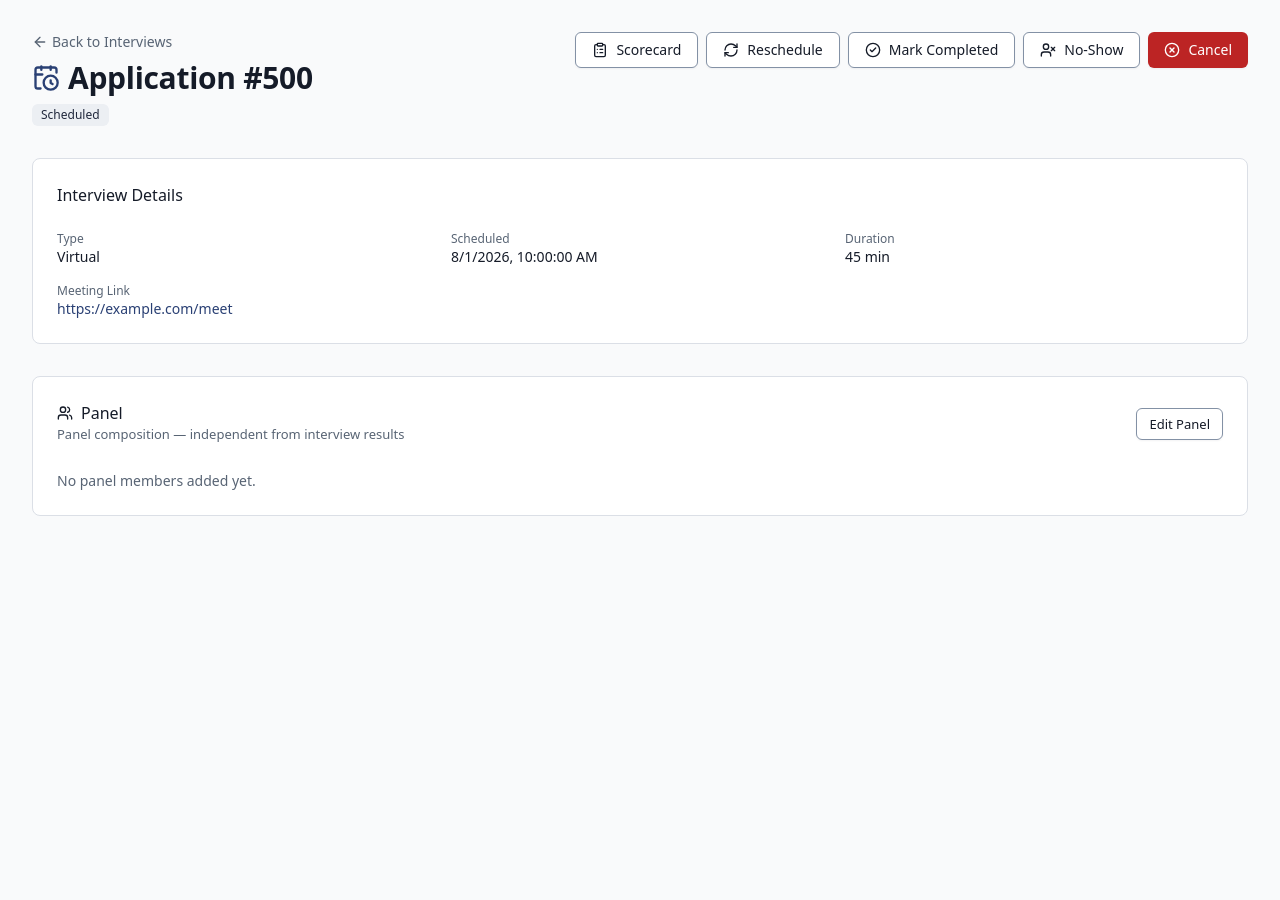
Scenario: Interview detail page › cancel confirmation › asks before cancelling, and Keep Interview cancels nothing
Click the button with test id "button-cancel-interview" at (1198, 50), box [1148,32,1248,68]
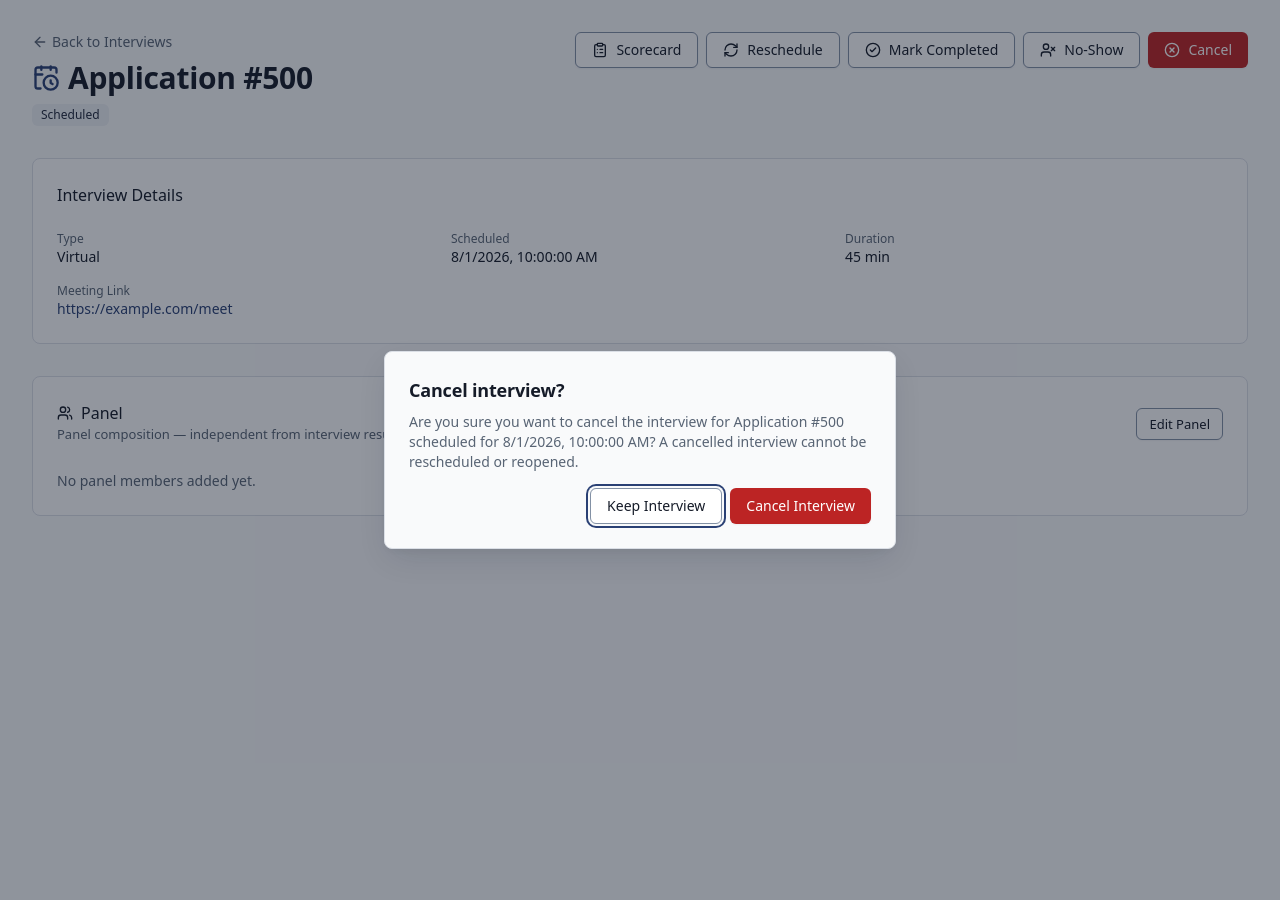
Result: the dialog with test id "dialog-cancel-interview" shows "Cancel interview?" at [409,378,564,402]
Result: the dialog with test id "dialog-cancel-interview" shows "cancel the interview for Application #500" at [384,351,896,549]
Click the button with test id "dialog-cancel-interview-cancel" at (656, 506), box [590,488,722,524]
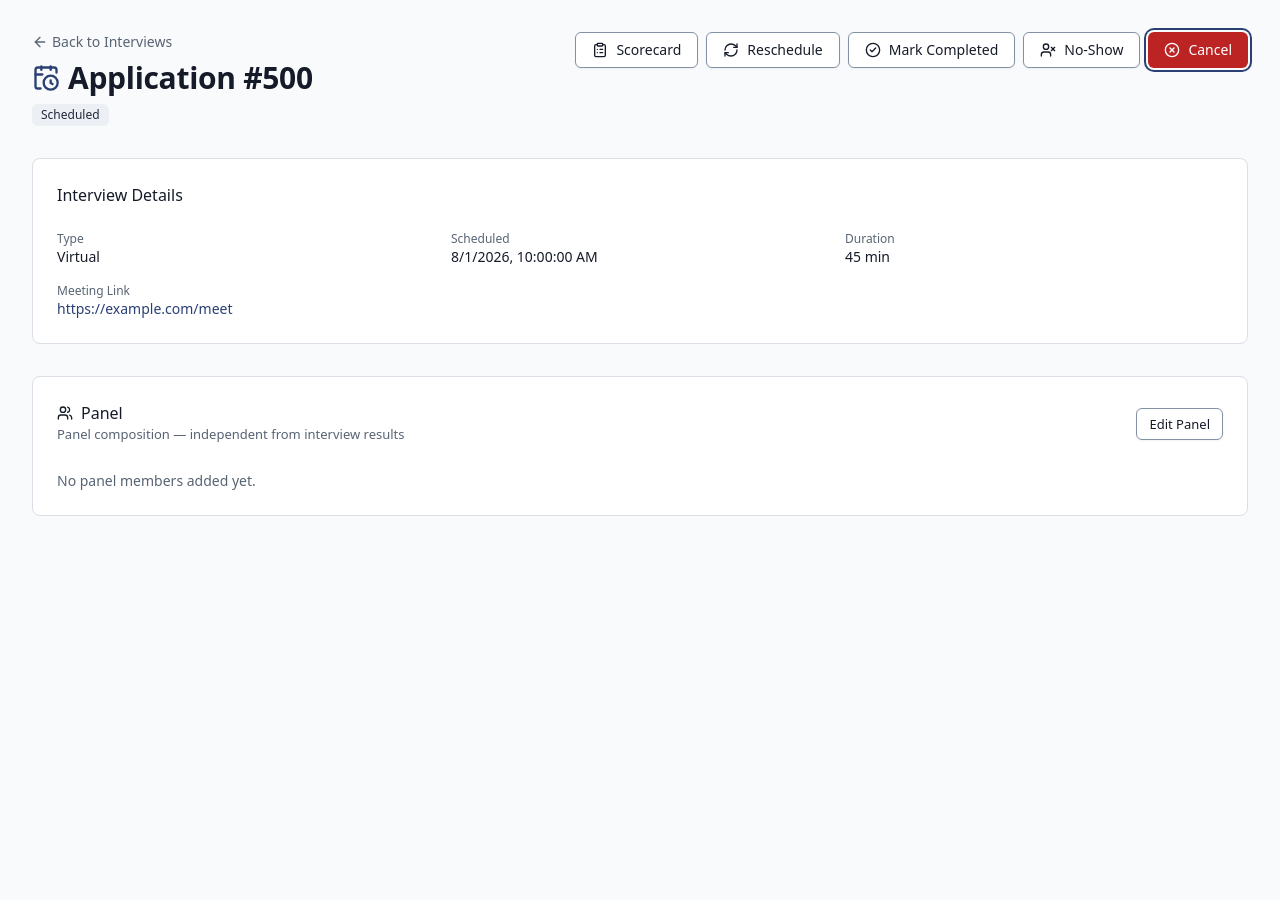
Result: the dialog with test id "dialog-cancel-interview" is gone
